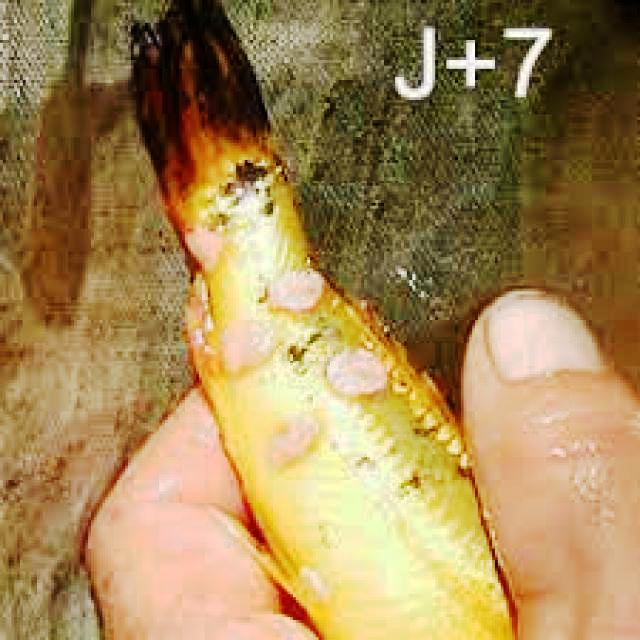Epizootic Ulcerative Syndrome -EUS-: (132, 0, 513, 639)
